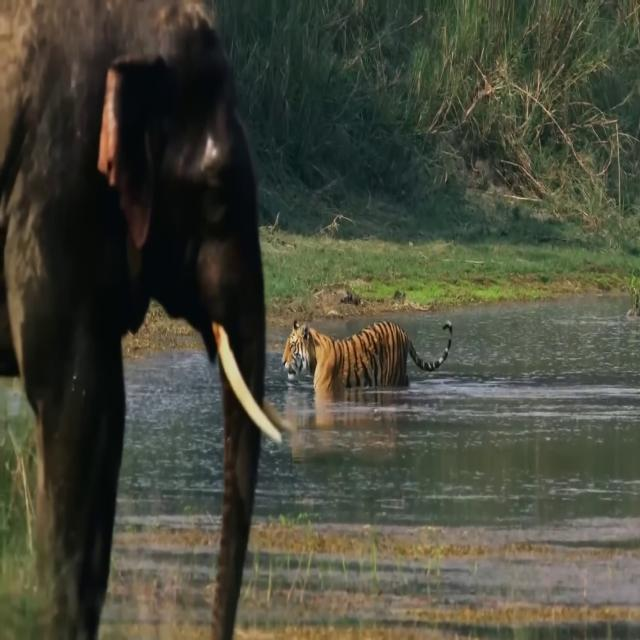tiger: (282, 318, 454, 401)
